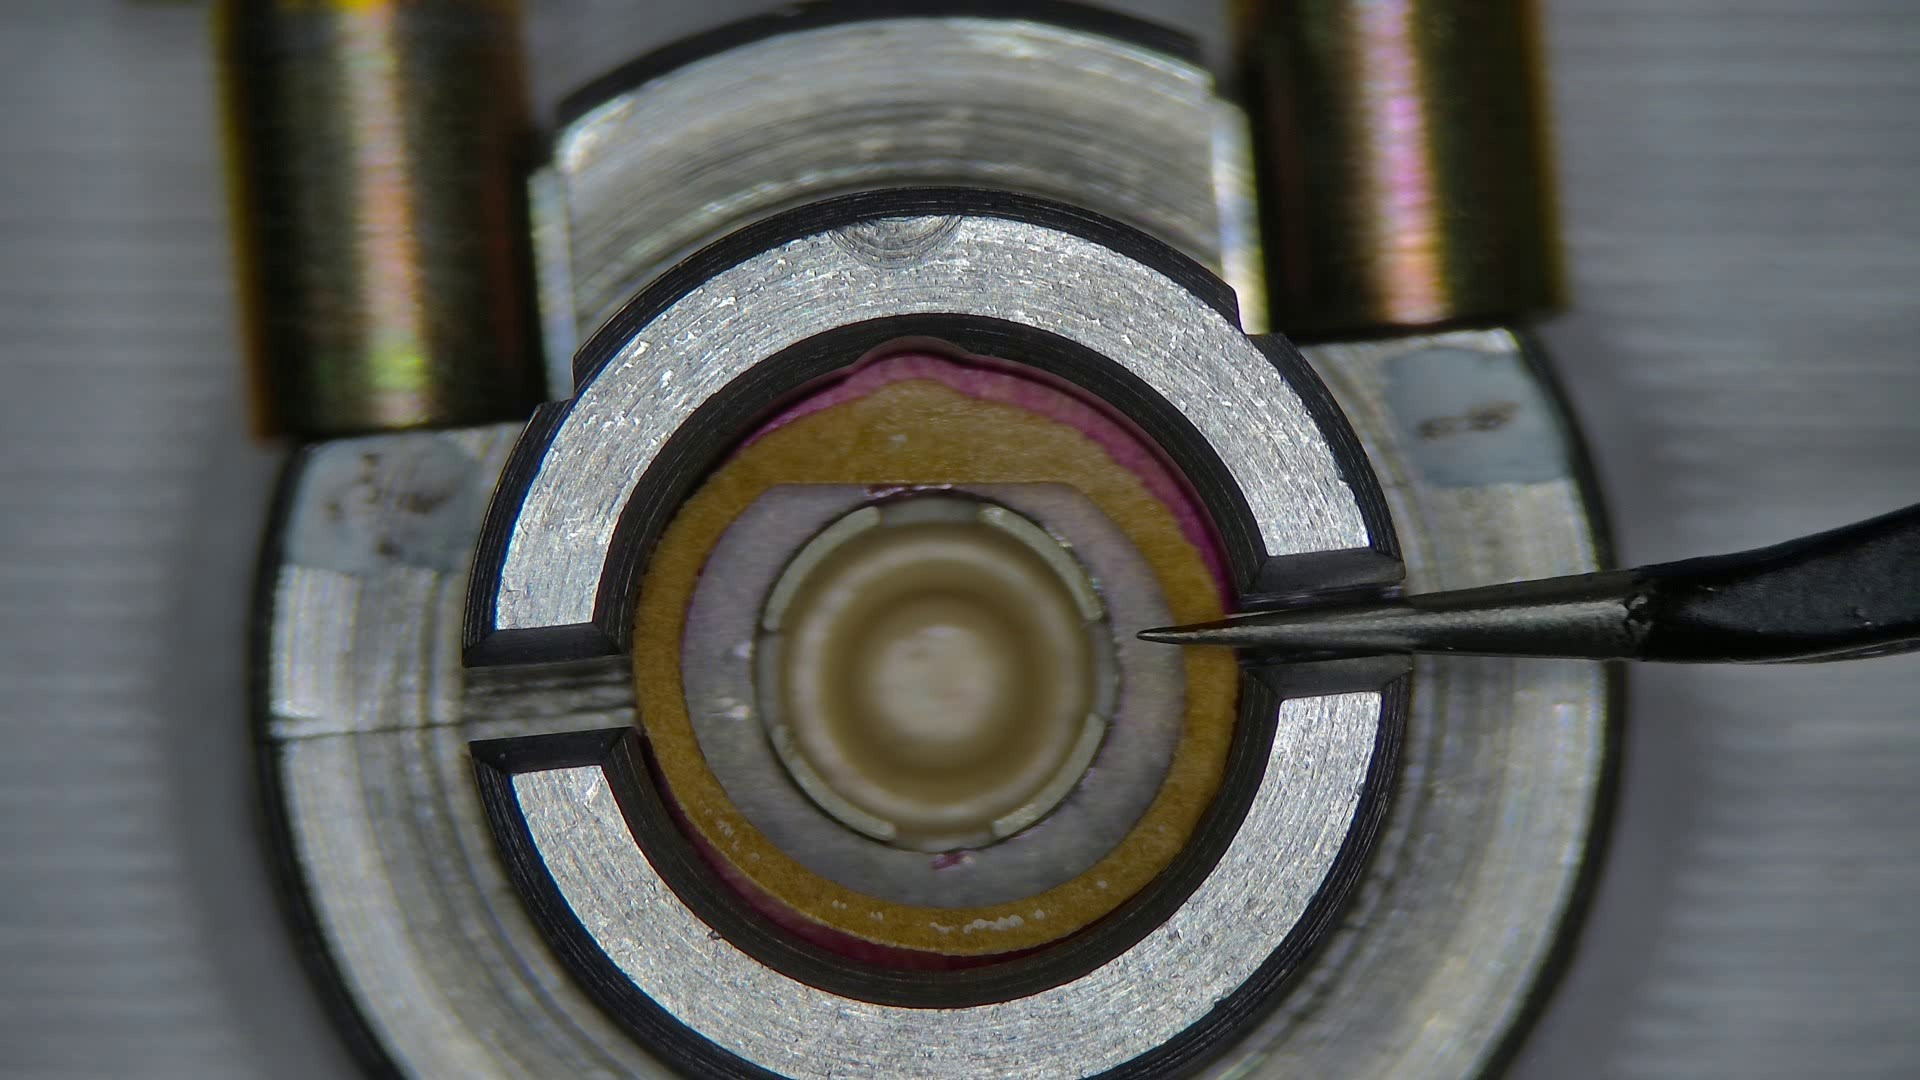GreyOring: (840, 356, 1216, 555), (698, 841, 878, 956), (870, 951, 1039, 972), (688, 829, 694, 837)
YellowOring: (682, 483, 1182, 905)
redOring: (633, 376, 1233, 953)
